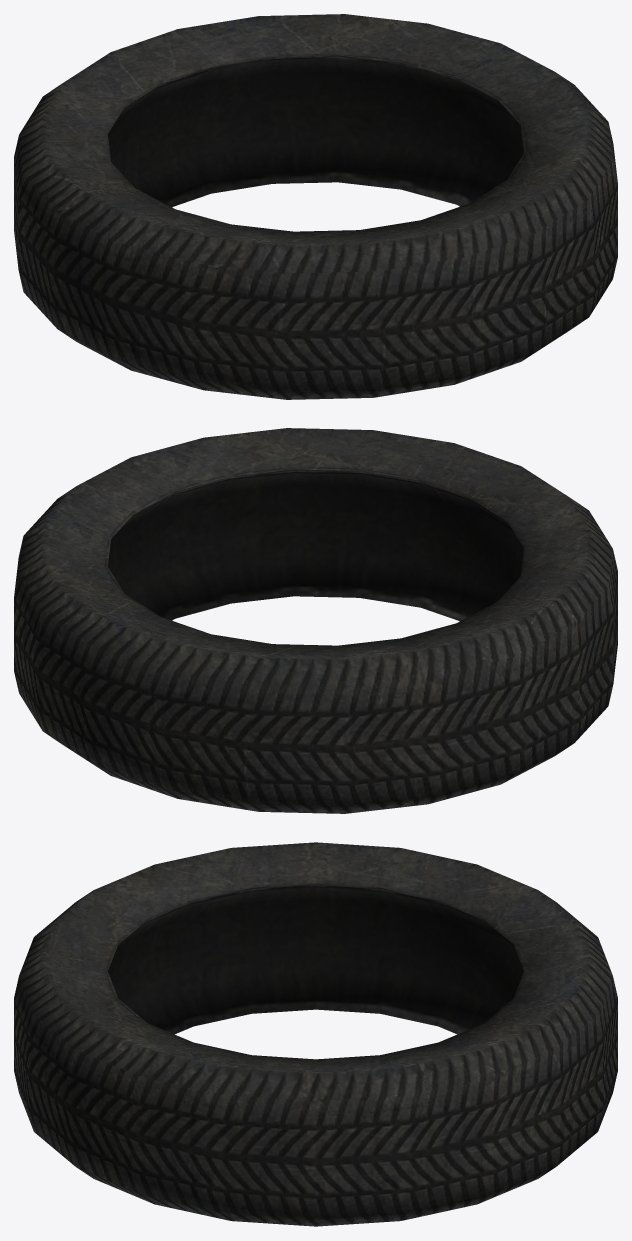
File: Tire1.fbx
The picture shows the model from 3 angles, top to bottom: view 1: azimuth 30°, elevation 25°; view 2: azimuth 150°, elevation 25°; view 3: azimuth 270°, elevation 25°; orthographic projection.
Visible parts, largest first — view 1: polySurface1; view 2: polySurface1; view 3: polySurface1.
Boxes of the visible parts, bbox=[...] form: polySurface1: bbox=[14, 14, 617, 399]; polySurface1: bbox=[14, 428, 617, 813]; polySurface1: bbox=[14, 842, 617, 1226].
Size of the model in its own units: 1.2 by 0.3348 by 1.2.
